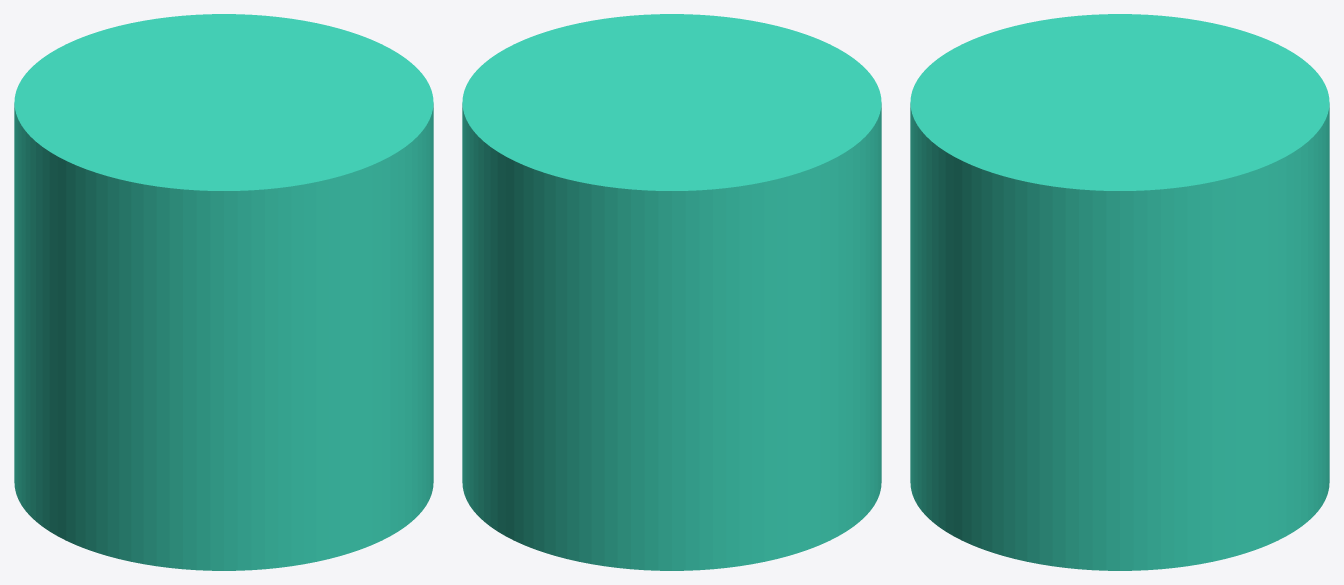
The model's file is CylinderBlue.gltf.
The picture shows the model from 3 angles, left to right: view 1: azimuth 30°, elevation 25°; view 2: azimuth 150°, elevation 25°; view 3: azimuth 270°, elevation 25°; orthographic projection.
Visible parts, largest first — view 1: Cylinder.001; view 2: Cylinder.001; view 3: Cylinder.001.
Part boxes in pixels (x1,y1,x2,y2): Cylinder.001: (14, 14, 433, 570); Cylinder.001: (462, 14, 881, 570); Cylinder.001: (910, 14, 1329, 570).
Size of the model in its own units: 2 by 2 by 2.
